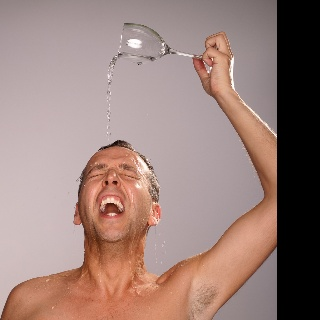without_mask: (78, 146, 152, 243)
